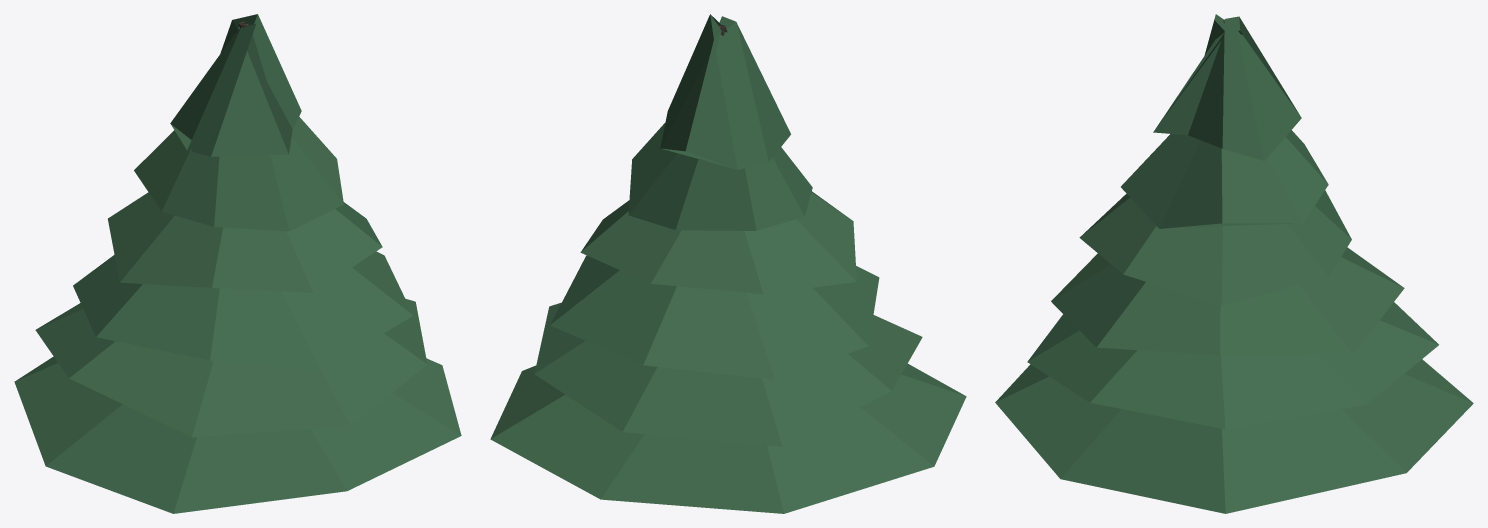
File: tree_pine_small.glb
3 renders of one model, left to right at view 1: azimuth 30°, elevation 25°; view 2: azimuth 150°, elevation 25°; view 3: azimuth 270°, elevation 25°, orthographic.
Visible parts, largest first — view 1: Tree_Pine_Small; view 2: Tree_Pine_Small; view 3: Tree_Pine_Small.
Part boxes in pixels (x1=…): Tree_Pine_Small: x1=14, y1=14, x2=461, y2=513; Tree_Pine_Small: x1=490, y1=14, x2=966, y2=513; Tree_Pine_Small: x1=995, y1=14, x2=1473, y2=513.
Bounding box in the file's own units: 4.47 × 4.84 × 4.54.
2 materials, 1 textured.
